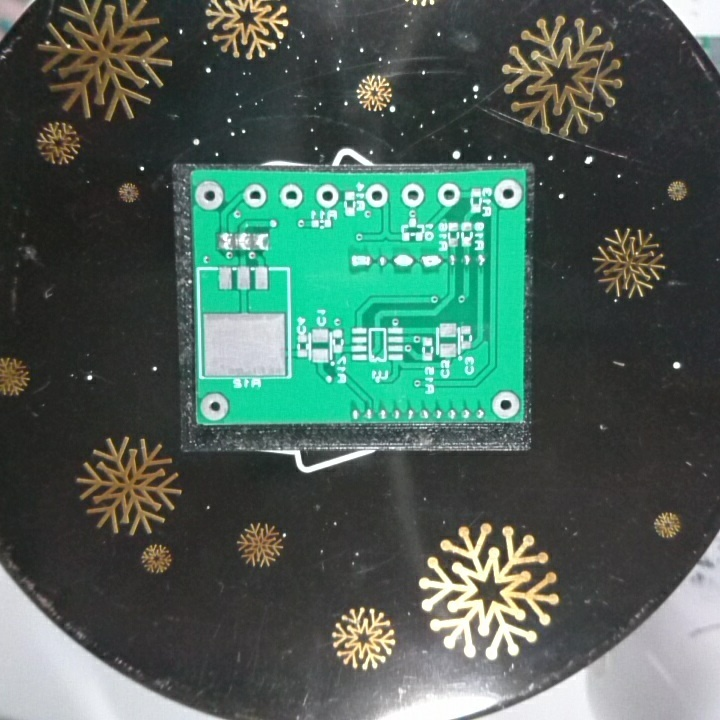F: (197, 389, 230, 422), (193, 178, 225, 212), (492, 178, 524, 211), (488, 389, 522, 420), (241, 183, 269, 211), (399, 181, 427, 209), (278, 183, 306, 210), (434, 182, 462, 209), (314, 182, 340, 209), (364, 184, 390, 209)
P: (389, 251, 417, 271), (418, 250, 444, 271), (347, 252, 373, 272)
